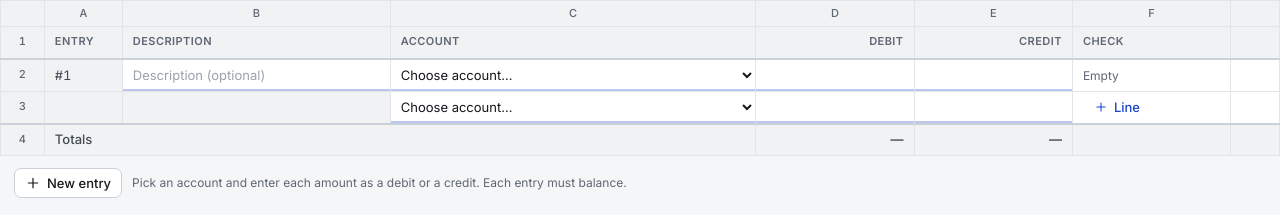
Test: JournalEntryStep › shows totals and whether the entry balances
The image size is (1280, 215).
In the field named "Debit, entry 1, line 1": (835, 75) 756,60 -> 914,90, type "1,200.50"
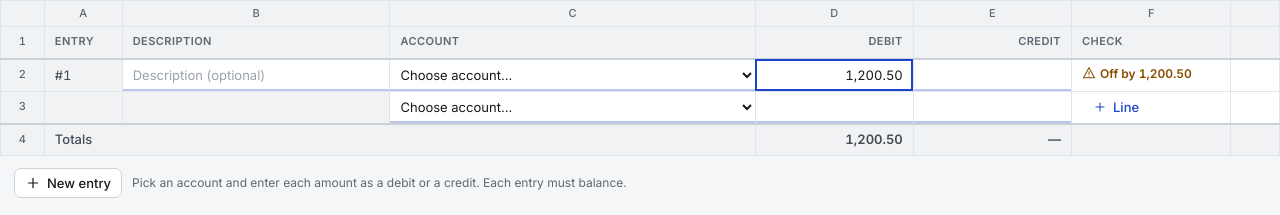
In the field named "Credit, entry 1, line 2": (992, 107) 914,92 -> 1071,122, type "1200"
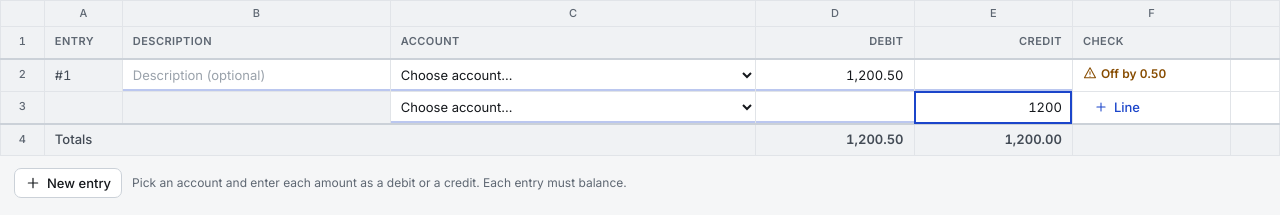
In the field named "Credit, entry 1, line 2": (993, 107) 914,92 -> 1072,122, type ".5"
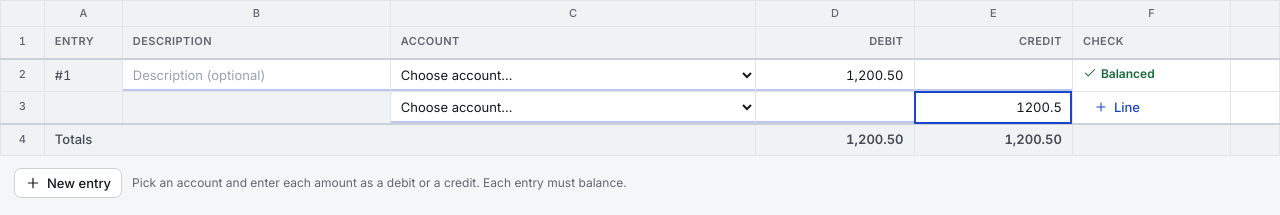
Result: the cell with test id "total-debit" reads "1,200.50" at 846,131 -> 904,147
Result: the cell with test id "total-credit" reads "1,200.50" at 1004,131 -> 1062,147
